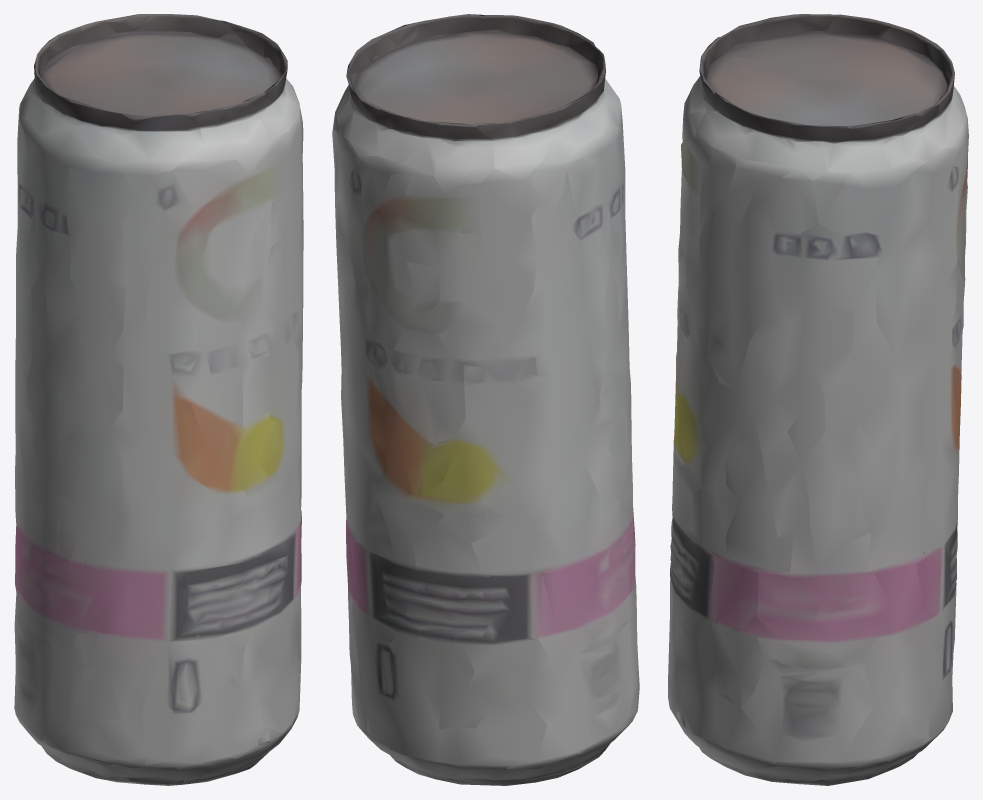
Rendered from 0001_mask_002_drink_can.glb.
3 views of the same model, side by side, from view 1: azimuth 30°, elevation 25°; view 2: azimuth 150°, elevation 25°; view 3: azimuth 270°, elevation 25° (orthographic).
Visible parts, largest first — view 1: mask_002_object; view 2: mask_002_object; view 3: mask_002_object.
Part boxes in pixels (bbox=[...]): mask_002_object: bbox=[14, 14, 303, 785]; mask_002_object: bbox=[332, 14, 639, 785]; mask_002_object: bbox=[668, 14, 968, 785].
Bounding box in the file's own units: 0.0557 × 0.1391 × 0.056.
